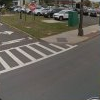crosswalk: (0, 41, 78, 73)
